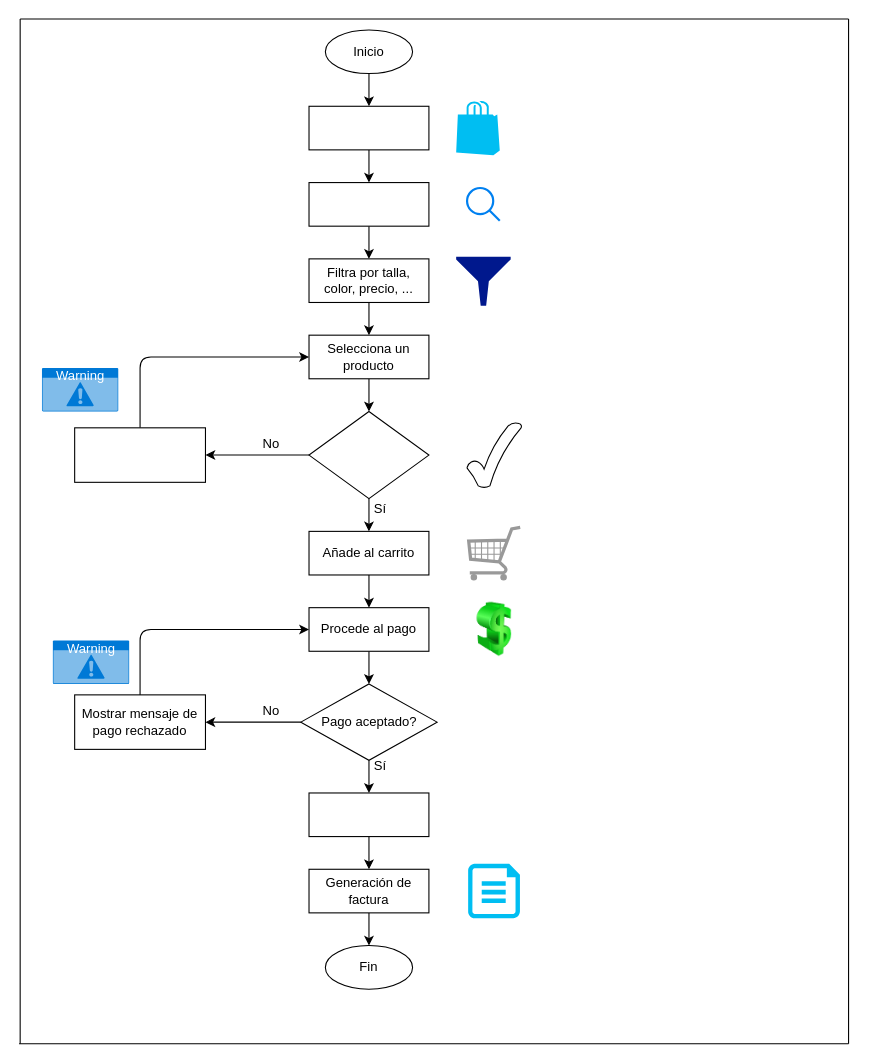
This 869x1064 diagram has some shape labels left out. The box of each missing label's shape, as (x1, y1, x2, y2) in pixels:
Acceso a la tienda: (308, 105, 429, 150)
Cliente busca un zapato: (308, 181, 429, 226)
Mostrar mensaje de producto no disponible: (74, 427, 205, 482)
Pedido completado: (308, 792, 429, 837)
Producto disponible?: (308, 410, 429, 499)
